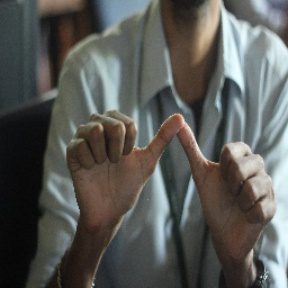A: (84, 100, 262, 218)
